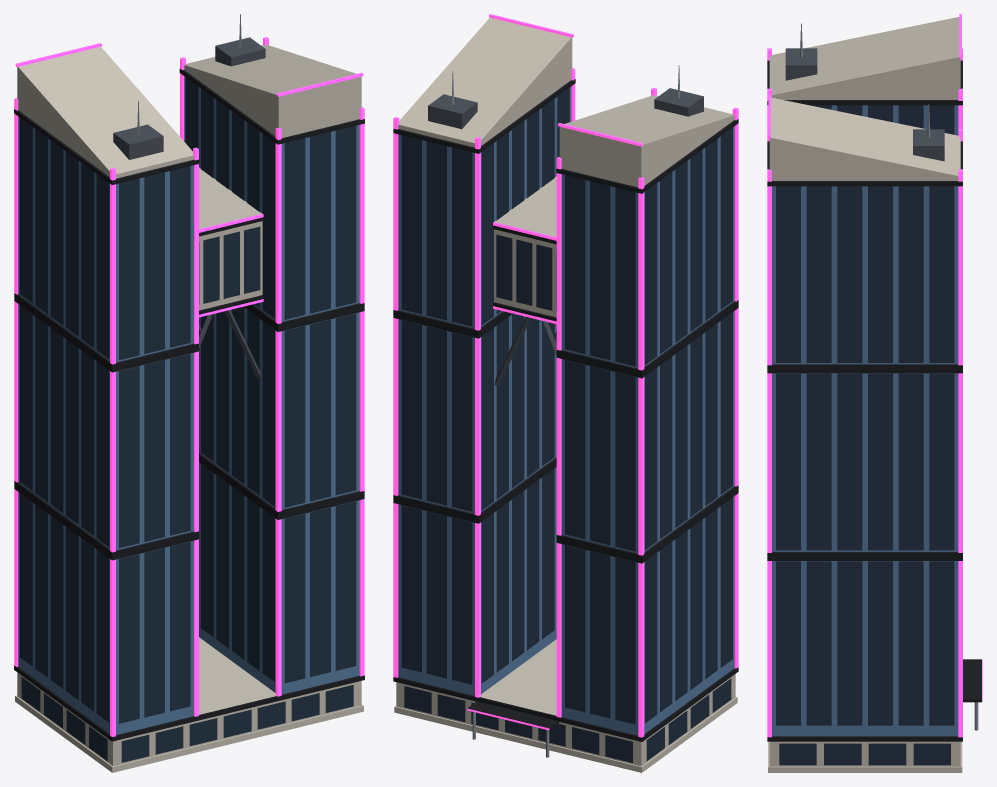
The model's file is tower_b.glb.
3 renders of one model, left to right at view 1: azimuth 30°, elevation 25°; view 2: azimuth 150°, elevation 25°; view 3: azimuth 270°, elevation 25°, orthographic.
Parts seen in each view (by area): view 1: Body; view 2: Body; view 3: Body.
Boxes of the visible parts, x1,y1,x2,y2 form: Body: (14,14,364,772); Body: (393,14,738,772); Body: (767,14,982,772).
Size of the model in its own units: 36.6 by 89.8 by 27.07.
